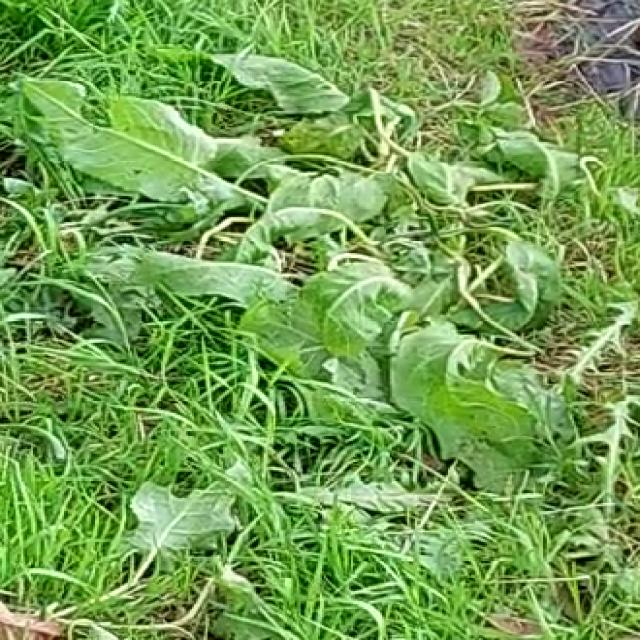organic waste: (136, 43, 564, 493)
